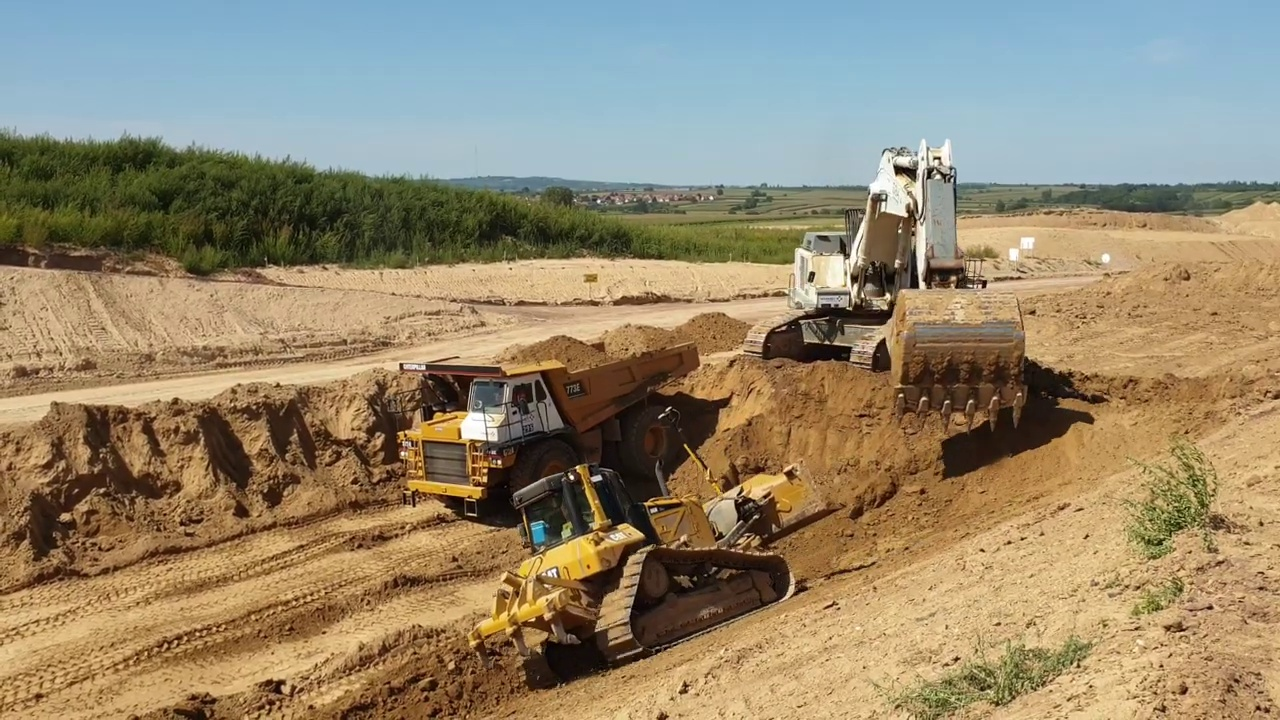bulldozer: (467, 413, 808, 686)
excavator: (743, 134, 1035, 437)
truck: (398, 338, 706, 531)
